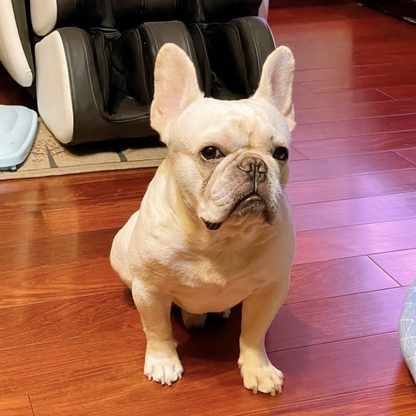bulldog: (107, 41, 297, 397)
